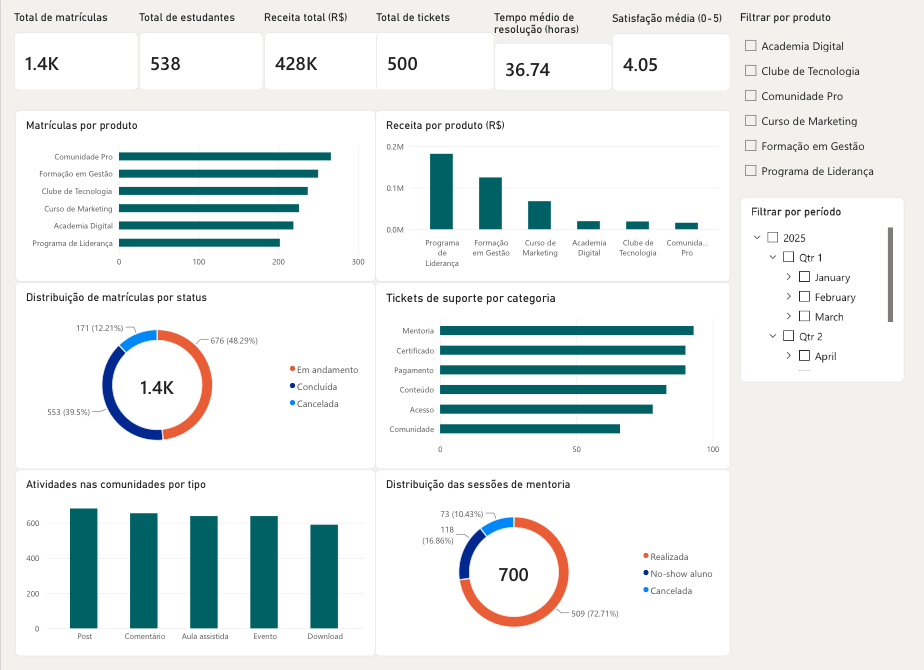

The page's visual inventory and layout, read from the dashboard file:
{"tool":"powerbi","page":{"name":"Page 1","canvas":[1920,1080],"ordinal":0},"visuals":[{"type":"cardVisual","title":"Total de matrículas","fields":{"Data":["CountNonNull(fact_enrollments.enrollment_id)"]},"box":[20,20,189,120],"z":0},{"type":"cardVisual","title":"Total de estudantes","fields":{"Data":["dim_date.Estudantes com Matrículas"]},"box":[210,20,189,120],"z":1},{"type":"cardVisual","title":"Receita total (R$)","fields":{"Data":["Sum(fact_enrollments.amount_brl)"]},"box":[400,20,180,120],"z":2},{"type":"cardVisual","title":"Total de tickets","fields":{"Data":["CountNonNull(fact_support_tickets.ticket_id)"]},"box":[570,20,180,120],"z":3},{"type":"clusteredBarChart","title":"Matrículas por produto","fields":{"Category":["dim_products.product_name"],"Y":["CountNonNull(fact_enrollments.enrollment_id)"]},"box":[20.8,169.6,548.8,260.8],"z":4},{"type":"clusteredColumnChart","title":"Receita por produto (R$)","fields":{"Category":["dim_products.product_name"],"Y":["Sum(fact_enrollments.amount_brl)"]},"box":[569.6,169.6,540.8,260.8],"z":5},{"type":"donutChart","title":"Distribuição de matrículas por status","fields":{"Category":["fact_enrollments.enrollment_status"],"Y":["CountNonNull(fact_enrollments.enrollment_id)"]},"box":[20.8,430.4,548.8,284.8],"z":6},{"type":"clusteredBarChart","title":"Tickets de suporte por categoria","fields":{"Category":["fact_support_tickets.category"],"Y":["CountNonNull(fact_support_tickets.ticket_id)"]},"box":[569.6,430.4,540.8,284.8],"z":7},{"type":"cardVisual","title":"Tempo médio de resolução (horas)","fields":{"Data":["Avg(fact_support_tickets.resolution_hours)"]},"box":[750,20,180,120],"z":8},{"type":"cardVisual","title":"Satisfação média (0-5)","fields":{"Data":["Avg(fact_support_tickets.satisfaction_score)"]},"box":[930,20.8,180,120],"z":9},{"type":"clusteredColumnChart","title":"Atividades nas comunidades por tipo","fields":{"Category":["fact_community_activity.activity_type"],"Y":["CountNonNull(fact_community_activity.activity_id)"]},"box":[20.8,715.2,548.8,284.8],"z":10},{"type":"donutChart","title":"Distribuição das sessões de mentoria","fields":{"Category":["fact_mentorship_sessions.session_status"],"Y":["CountNonNull(fact_mentorship_sessions.session_id)"]},"box":[569.6,715.2,540.8,284.8],"z":11},{"type":"slicer","title":"Filtrar por produto","fields":{"Values":["dim_products.product_name"]},"box":[1124.8,19.2,249.6,281.6],"z":12},{"type":"listSlicer","title":"Filtrar por período","fields":{"Values":["dim_date.date.Variation.Date Hierarchy.Year","dim_date.date.Variation.Date Hierarchy.Quarter","dim_date.date.Variation.Date Hierarchy.Month","dim_date.date.Variation.Date Hierarchy.Day"]},"box":[1124.8,300.8,250,282],"z":13}]}

Visuals, with their boxes on the page's 1920x1080 design canvas (x1, y1, x2, y2). These are canvas units, not pixel positions in the 924x670 screenshot, which may show the page scaled, cropped or inside an application window:
"Total de matrículas" cardVisual: 20, 20, 209, 140
"Total de estudantes" cardVisual: 210, 20, 399, 140
"Receita total (R$)" cardVisual: 400, 20, 580, 140
"Total de tickets" cardVisual: 570, 20, 750, 140
"Matrículas por produto" clusteredBarChart: 21, 170, 570, 430
"Receita por produto (R$)" clusteredColumnChart: 570, 170, 1110, 430
"Distribuição de matrículas por status" donutChart: 21, 430, 570, 715
"Tickets de suporte por categoria" clusteredBarChart: 570, 430, 1110, 715
"Tempo médio de resolução (horas)" cardVisual: 750, 20, 930, 140
"Satisfação média (0-5)" cardVisual: 930, 21, 1110, 141
"Atividades nas comunidades por tipo" clusteredColumnChart: 21, 715, 570, 1000
"Distribuição das sessões de mentoria" donutChart: 570, 715, 1110, 1000
"Filtrar por produto" slicer: 1125, 19, 1374, 301
"Filtrar por período" listSlicer: 1125, 301, 1375, 583
